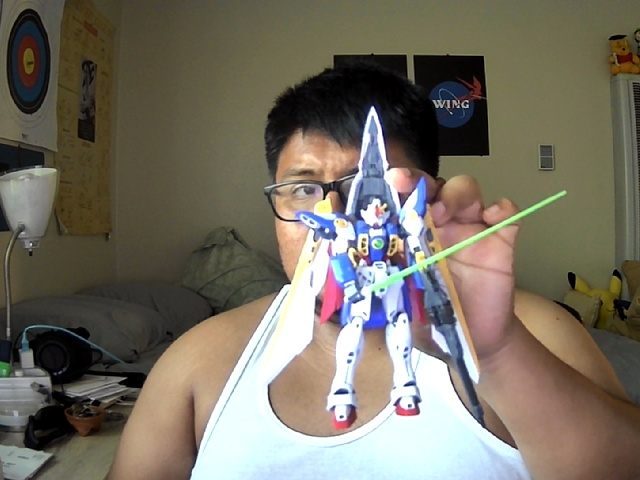Wing-01: (260, 102, 566, 428)
